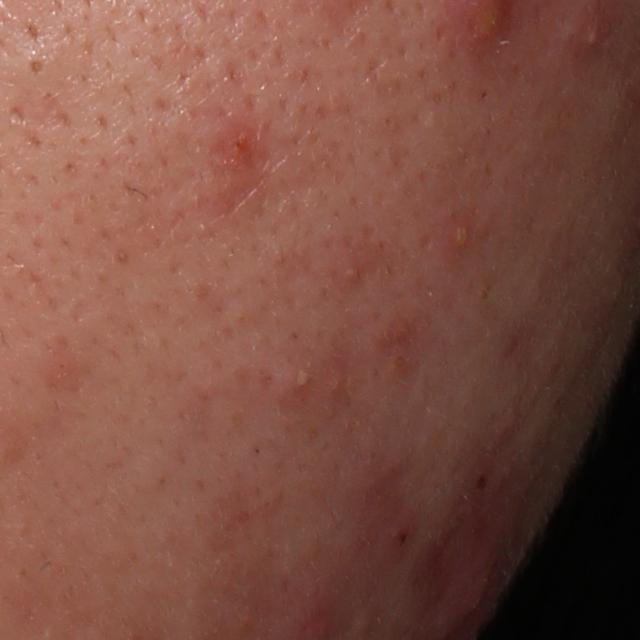comedo: (15, 44, 62, 88)
papule: (212, 129, 266, 193)
pustule: (284, 359, 317, 393)
